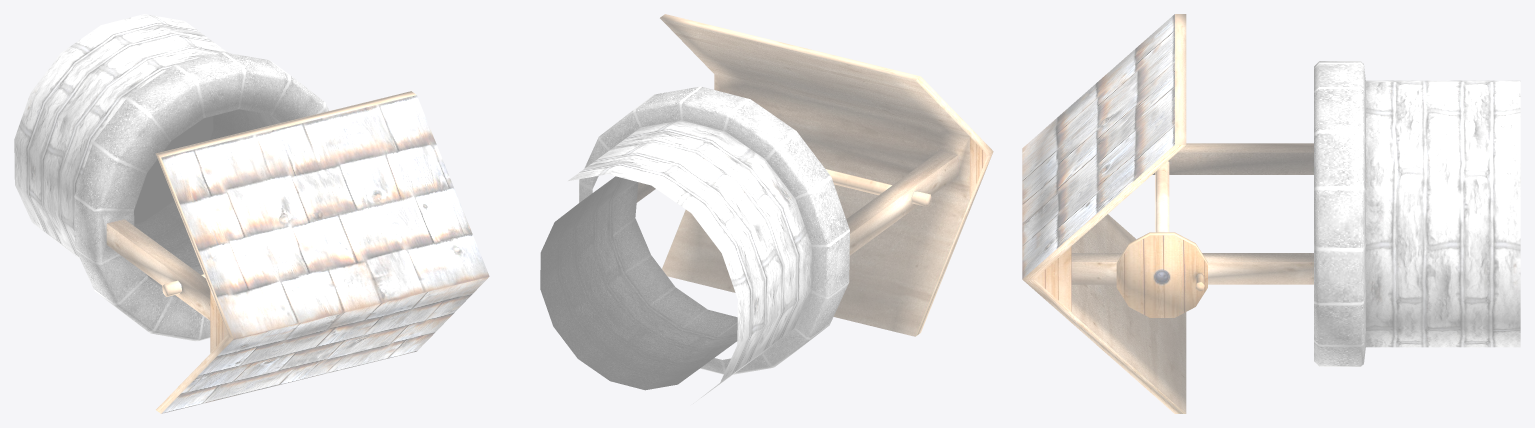
The model's file is well.coveredopen.glb.
3 renders of one model, left to right at view 1: azimuth 30°, elevation 25°; view 2: azimuth 150°, elevation 25°; view 3: azimuth 270°, elevation 25°, orthographic. The views are drawn at different scales.
Parts seen in each view (by area): view 1: well.covered; view 2: well.covered; view 3: well.covered.
Boxes of the visible parts, x1,y1,x2,y2 form: well.covered: (14,14,489,413); well.covered: (540,14,993,403); well.covered: (1022,14,1520,413).
Size of the model in its own units: 2.14 by 1.97 by 3.22.
1 material, 1 textured.
